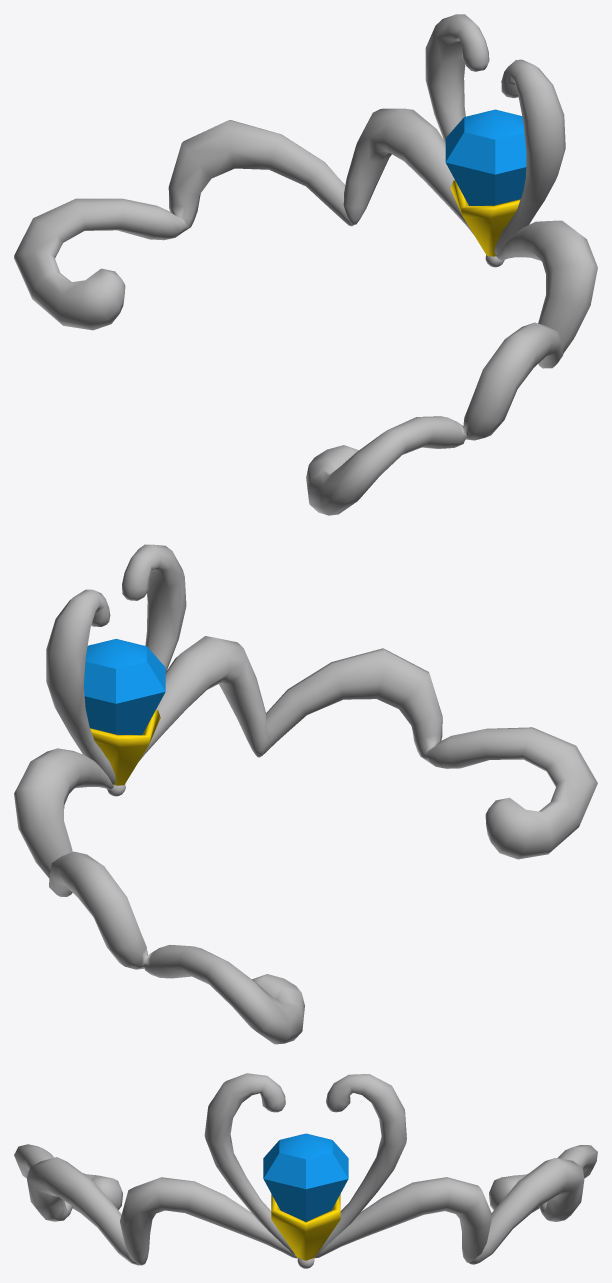
File: diamond_geo.fbx
3 renders of one model, top to bottom at view 1: azimuth 30°, elevation 25°; view 2: azimuth 150°, elevation 25°; view 3: azimuth 270°, elevation 25°, orthographic. The views are drawn at different scales.
Parts seen in each view (by area): view 1: diamond_parts:diamond_geo; view 2: diamond_parts:diamond_geo; view 3: diamond_parts:diamond_geo.
Part boxes in pixels (x1,y1,x2,y2): diamond_parts:diamond_geo: (14,14,597,515); diamond_parts:diamond_geo: (14,544,597,1044); diamond_parts:diamond_geo: (14,1073,597,1268).
Size of the model in its own units: 5.95 by 4.72 by 9.51.
Materials: 1 (1 with a texture image).
